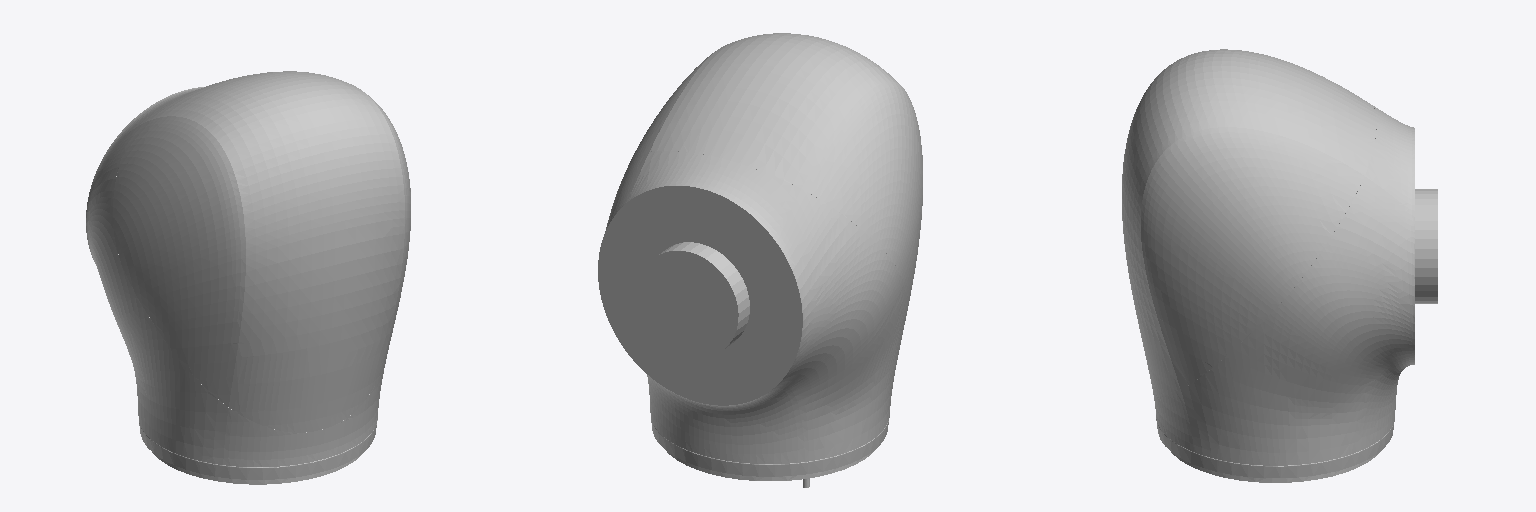
3 renders of one model, left to right at view 1: azimuth 30°, elevation 25°; view 2: azimuth 150°, elevation 25°; view 3: azimuth 270°, elevation 25°, orthographic.
Parts seen in each view (by area): view 1: /ambf/env/Link6; view 2: /ambf/env/Link6; view 3: /ambf/env/Link6.
Boxes of the visible parts, <box> form: /ambf/env/Link6: <box>86,71,410,484</box>; /ambf/env/Link6: <box>598,33,922,487</box>; /ambf/env/Link6: <box>1122,49,1437,482</box>.
Size of the model in its own units: 0.1348 by 0.1859 by 0.1402.